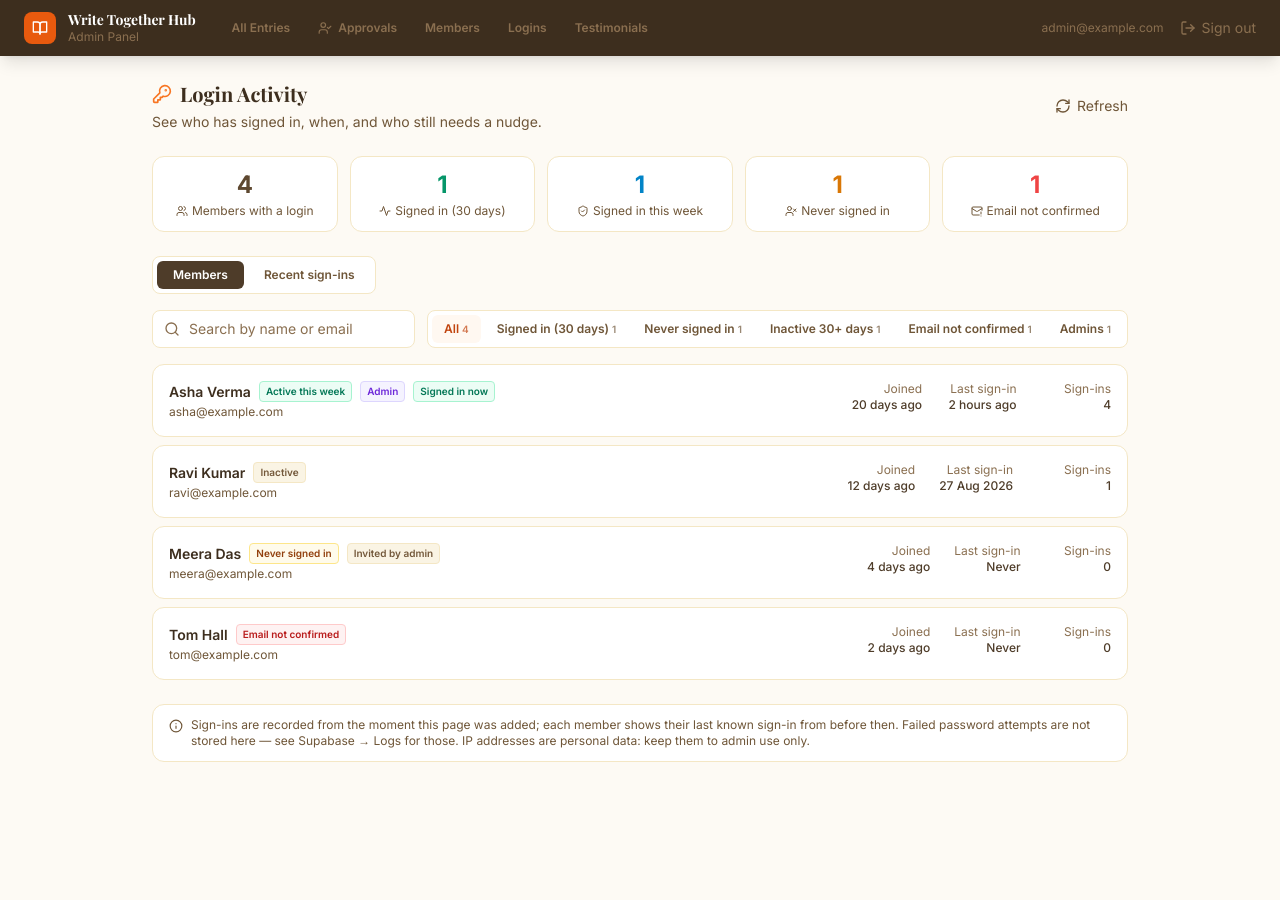
Scenario: AdminLogins page › lists recent sign-ins with device and IP, and marks pre-monitoring ones
Expected: the text "Asha Verma" is shown, [169,382,251,402]
Click the button "Recent sign-ins" at {"x": 309, "y": 275}, box [248,261,371,289]
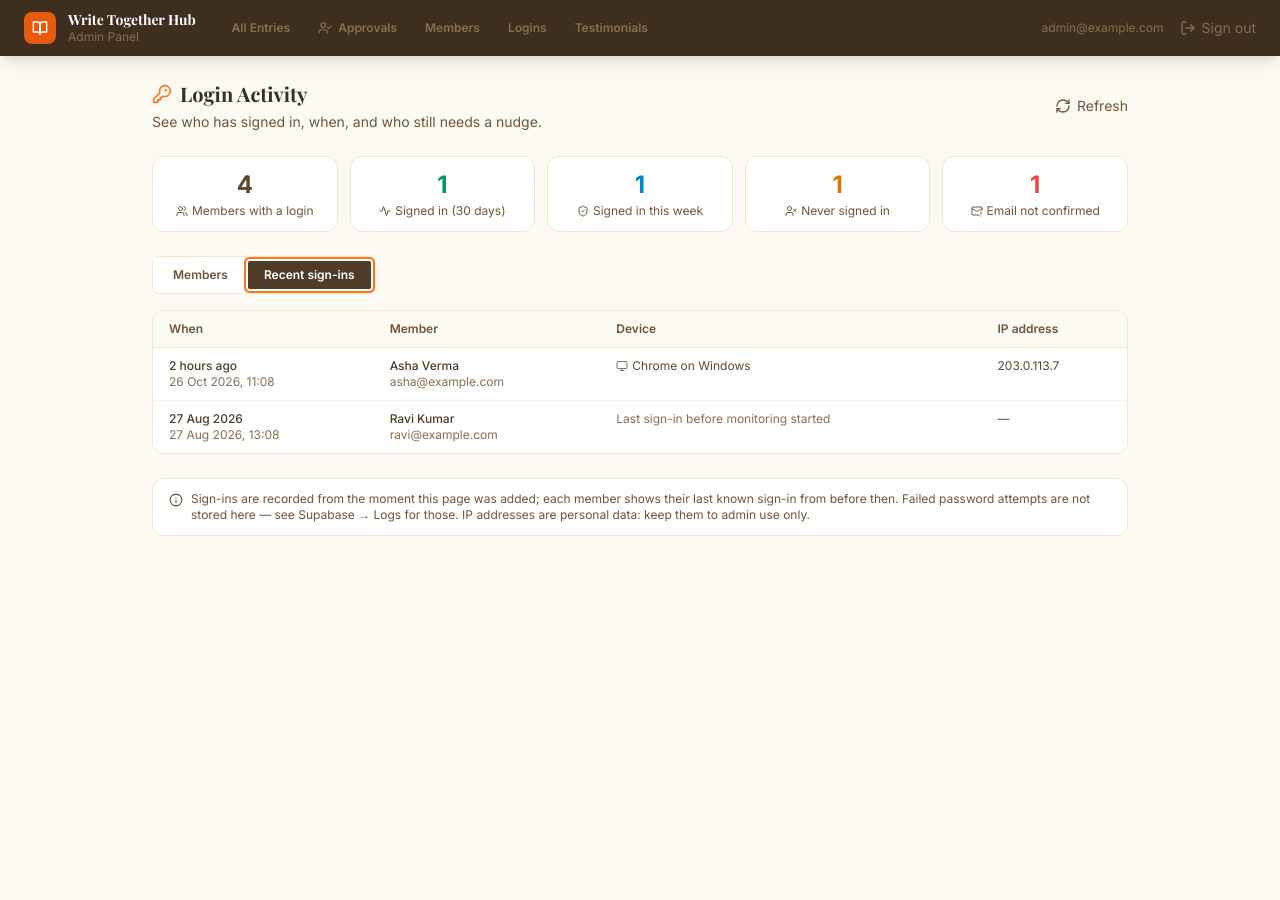
Now the text "Chrome on Windows" is shown, box [616,358,750,374]
Now the text "203.0.113.7" is shown, box [982,348,1127,400]
Now the text "Last sign-in before monitoring started" is shown, box [616,411,830,426]
